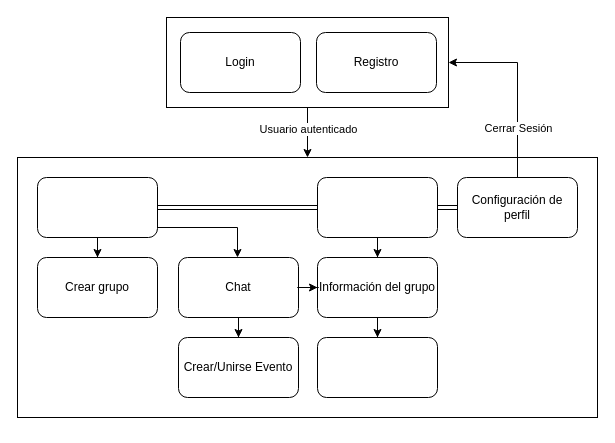
The diagram is 615 pixels wide and 443 high, and some of its shapes have lost their labels. Here are the shapes that lost their labels. From the top down, the centre of each, then its label:
At [97,207]: "Lista de grupos".
At [377,207]: "Mapa".
At [377,367]: "Modificar grupo".
